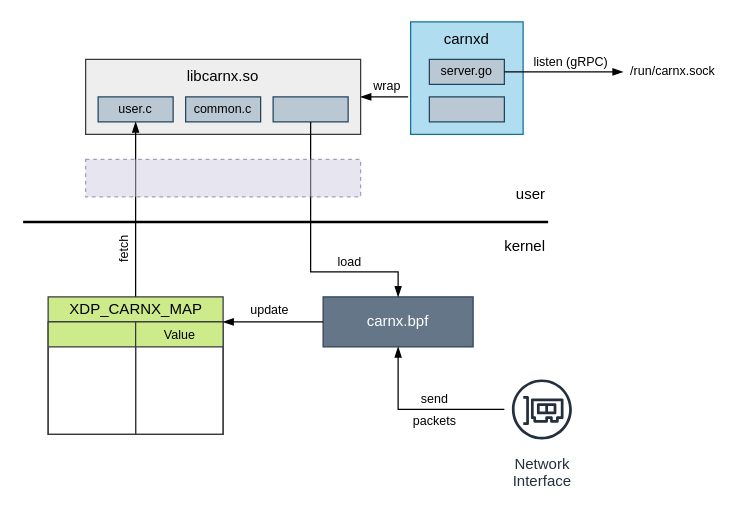
The diagram is 744 pixels wide and 514 high, and some of its shapes have lost their labels. Each missing label, with the centre of its shape:
"Counter" goes at (x=91, y=377).
"libbpf.so" goes at (x=222, y=177).
"loader.c" goes at (x=310, y=109).
"main.go" goes at (x=466, y=109).
